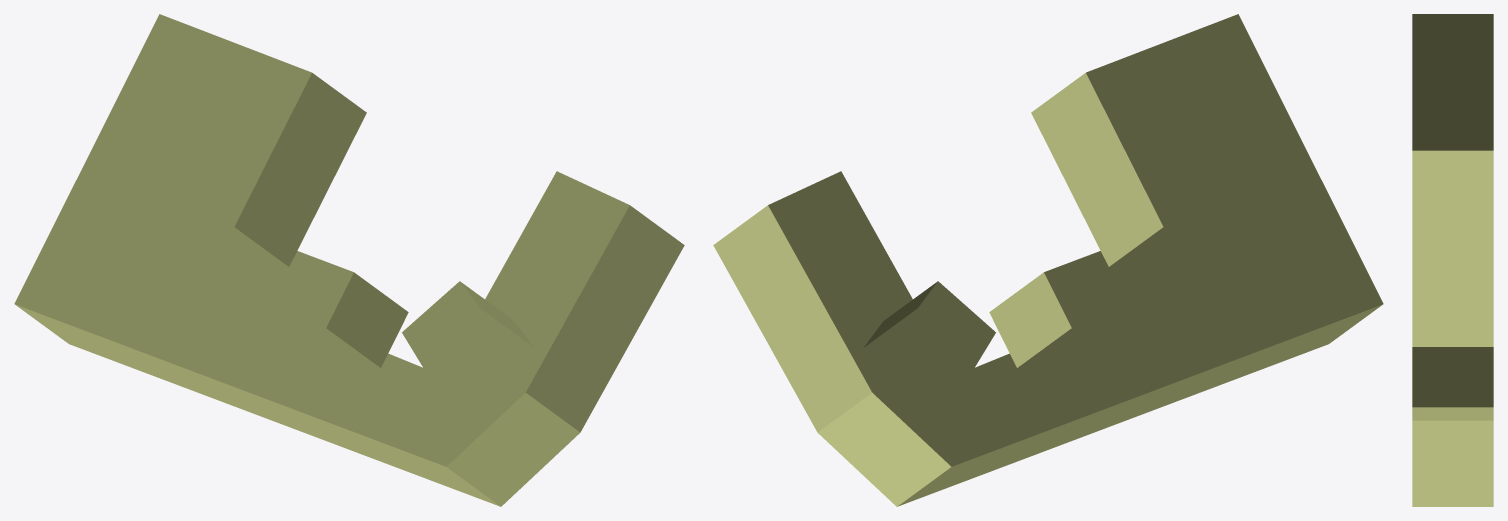
3 renders of one model, left to right at view 1: azimuth 30°, elevation 25°; view 2: azimuth 150°, elevation 25°; view 3: azimuth 270°, elevation 25°, orthographic. The views are drawn at different scales.
Parts seen in each view (by area): view 1: 0_0_2_0_1_1_0_1; view 2: 0_0_2_0_1_1_0_1; view 3: 0_0_2_0_1_1_0_1.
Boxes of the visible parts, left/top/right/bottom form: 0_0_2_0_1_1_0_1: left=14, top=14, right=684, bottom=506; 0_0_2_0_1_1_0_1: left=713, top=14, right=1383, bottom=506; 0_0_2_0_1_1_0_1: left=1412, top=14, right=1493, bottom=506.
Size of the model in its own units: 38.96 by 31.62 by 6.
